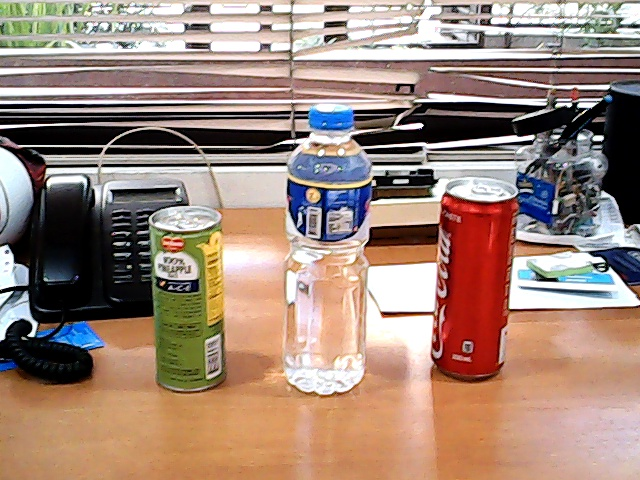Cola: (412, 156, 536, 400)
Pine Juice: (134, 201, 244, 398)
Summit Water: (269, 93, 386, 406)
